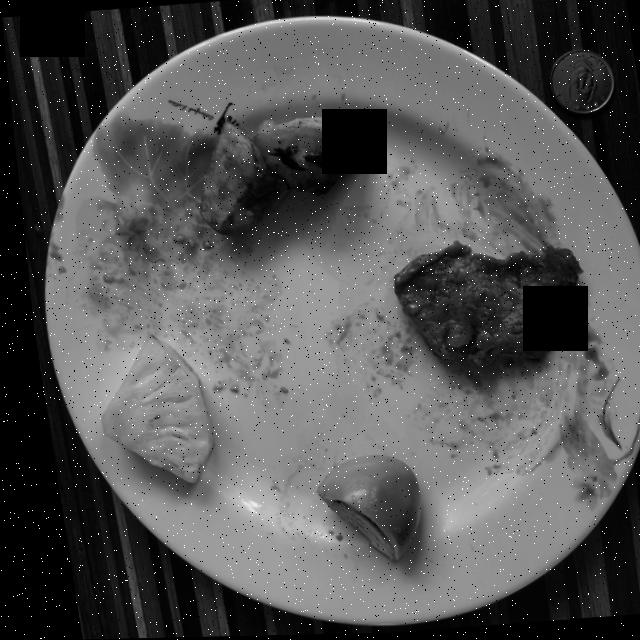coin: (548, 51, 612, 116)
creamy tofu: (388, 242, 575, 368)
fried potato: (196, 117, 368, 236)
pineapple: (92, 335, 204, 483)
soy egg: (306, 455, 409, 560)
